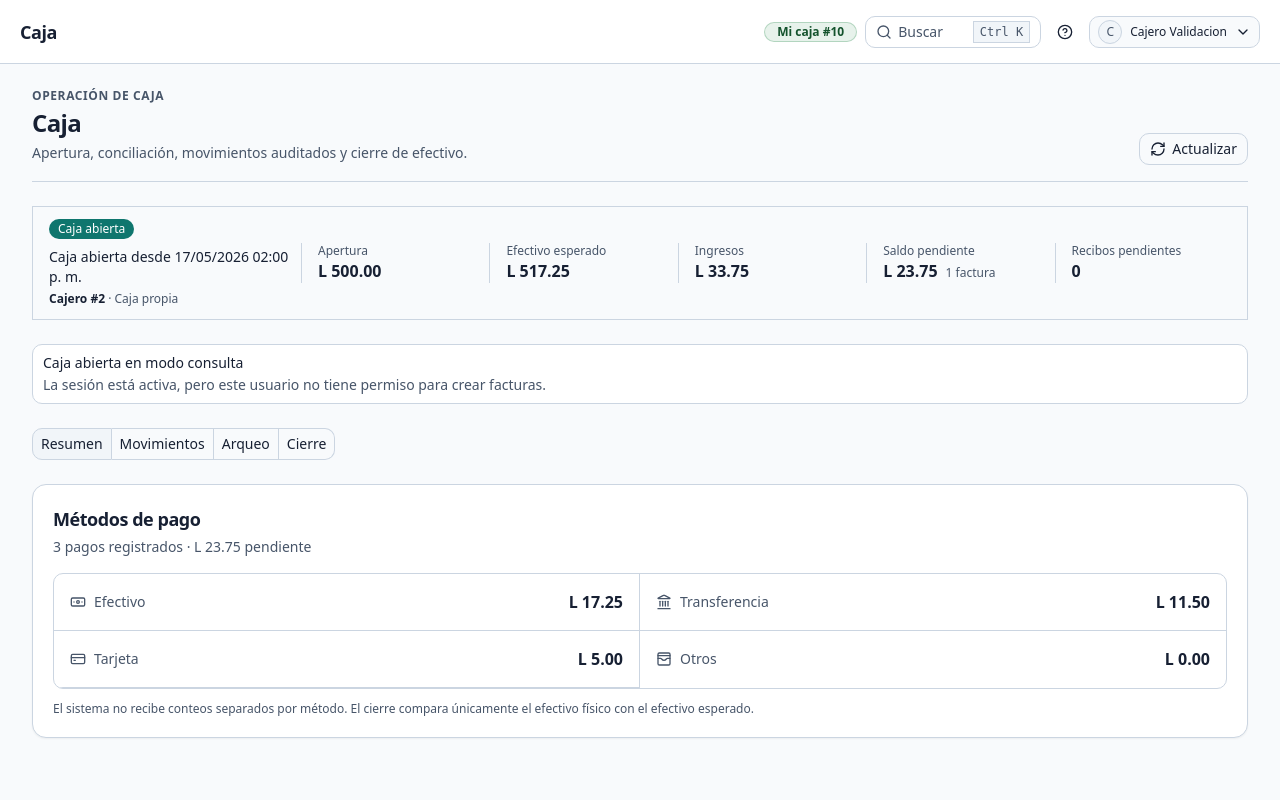
it: CashBoxView › shows pending balance and prevents client-side close while invoices are partial
Expected: the text "Ingresos" is shown, top-left (695, 242), bottom-right (744, 259)
Expected: the text "Ingresos L 33.75" is shown, top-left (678, 243), bottom-right (854, 283)
What coordinates should you click on to do the following:
click the radio button labelled "Cierre"
I would click on:
 (307, 444)
Its box is top-left (279, 428), bottom-right (335, 460).
(page scrolled)
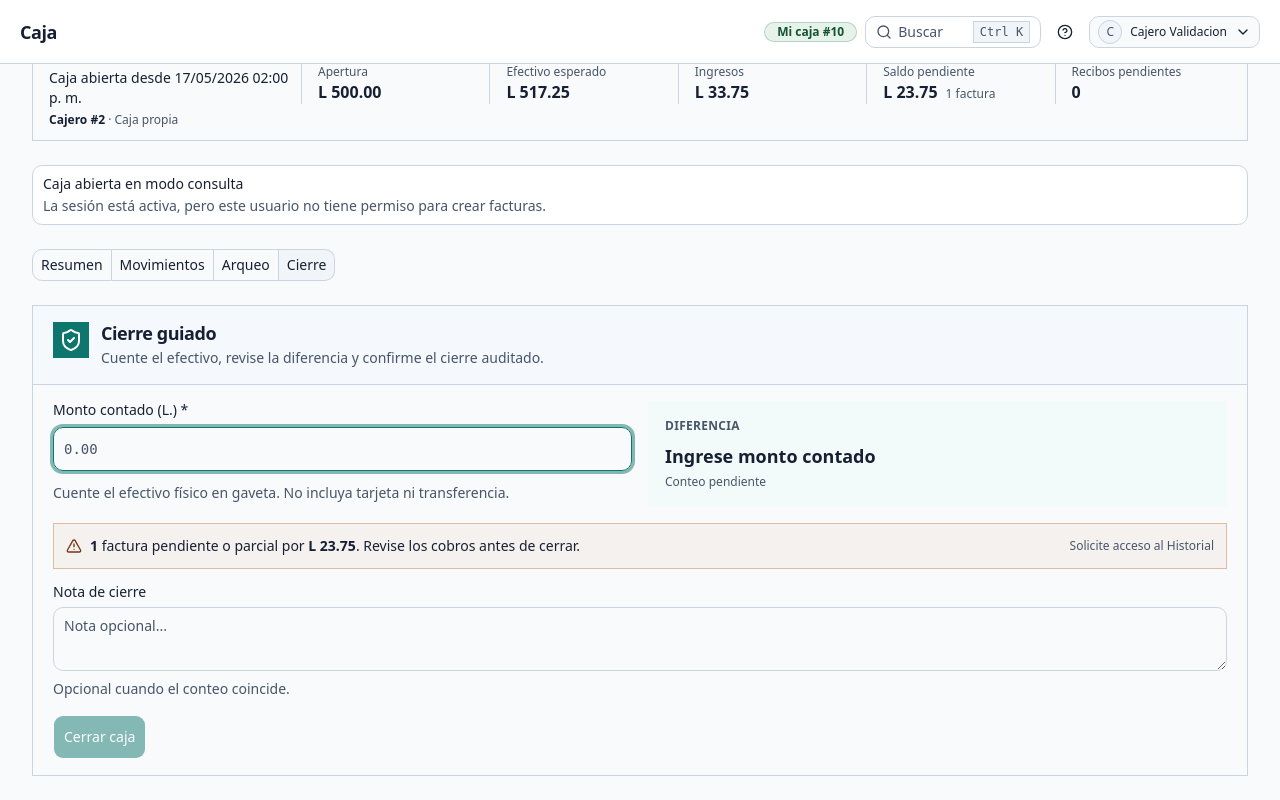
Result: the text "Revise los cobros antes de cerrar" is shown at top-left (356, 536), bottom-right (580, 555)
Result: the button "Cerrar caja" is disabled at top-left (53, 715), bottom-right (146, 759)
